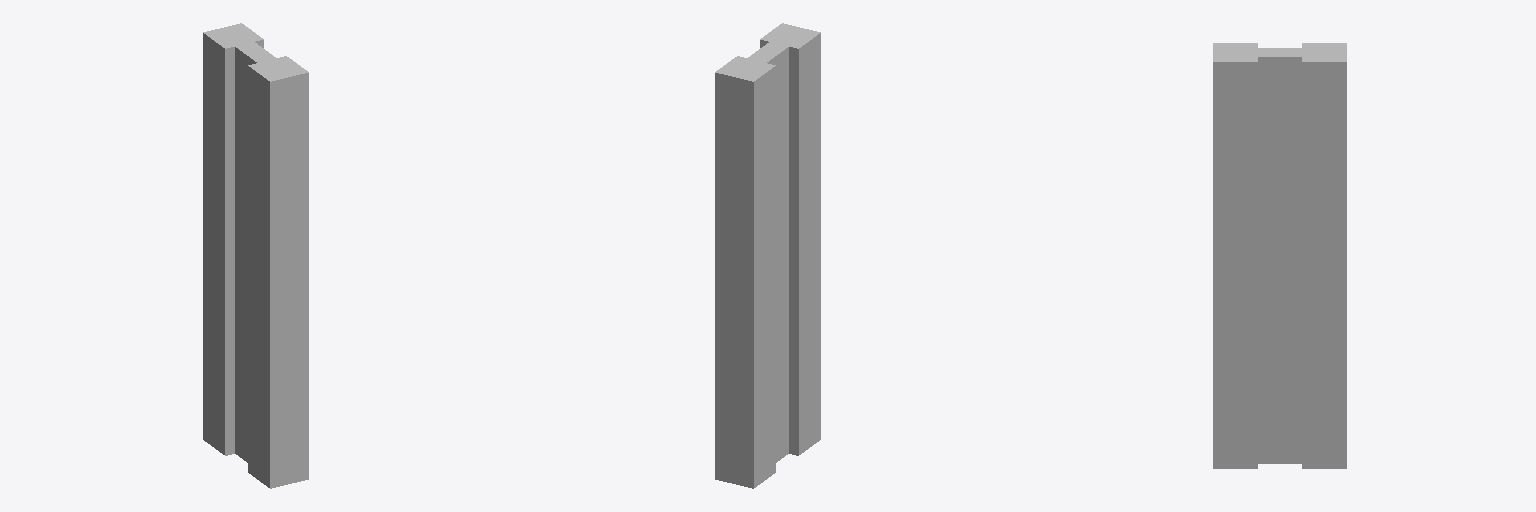
The model's file is wallWoodArch.obj.
3 renders of one model, left to right at view 1: azimuth 30°, elevation 25°; view 2: azimuth 150°, elevation 25°; view 3: azimuth 270°, elevation 25°, orthographic.
Parts seen in each view (by area): view 1: wallWoodArch; view 2: wallWoodArch; view 3: wallWoodArch.
Boxes of the visible parts, <box> form: wallWoodArch: <box>203,23,308,488</box>; wallWoodArch: <box>715,23,820,488</box>; wallWoodArch: <box>1213,43,1346,468</box>.
Bounding box in the file's own units: 0.1 × 1 × 0.3.